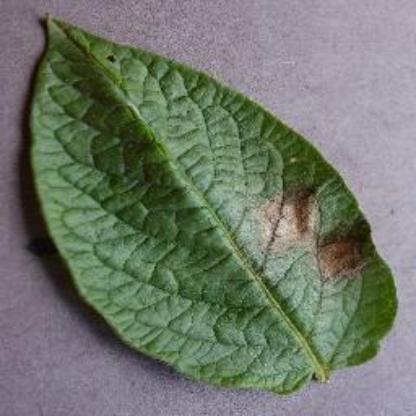Late-Blight: (29, 8, 404, 394)
